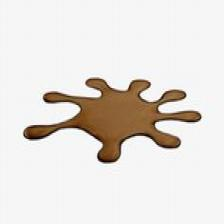brown: (24, 79, 202, 161)
